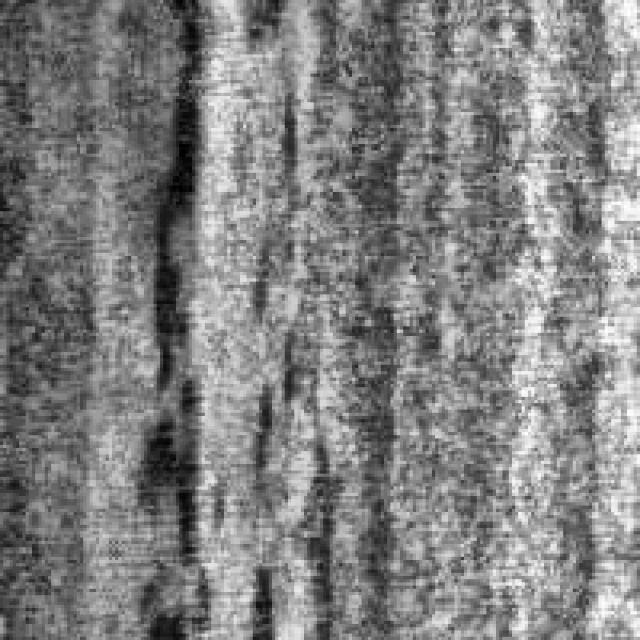Patches: (188, 15, 310, 630), (128, 0, 233, 566)
